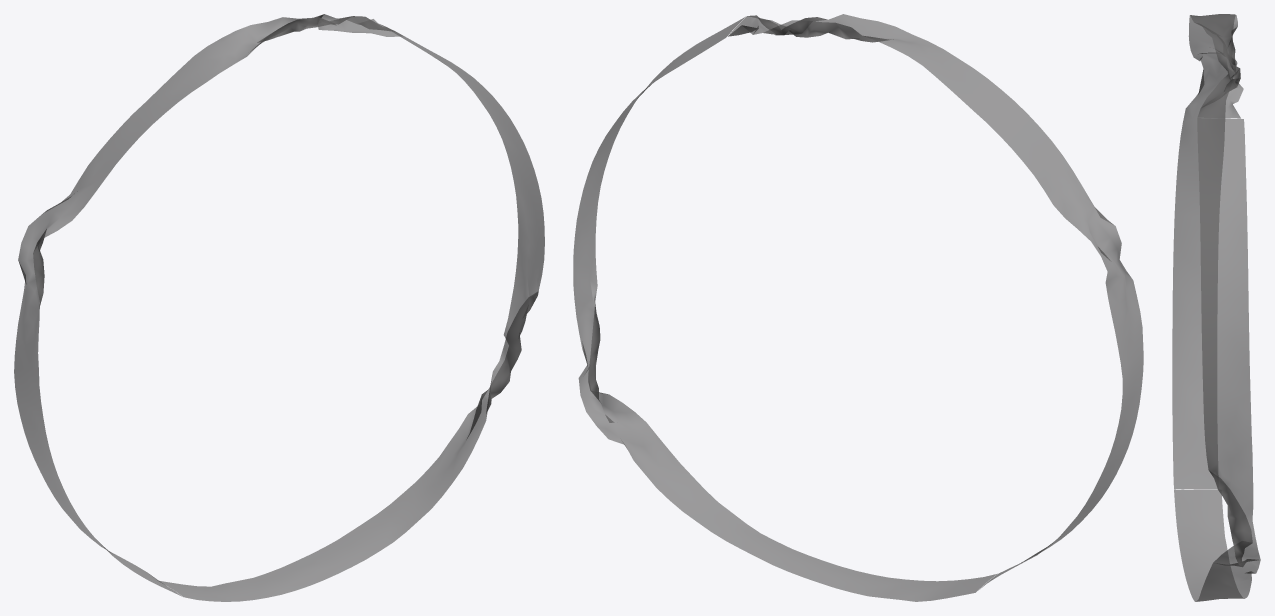
The picture shows the model from 3 angles, left to right: view 1: azimuth 30°, elevation 25°; view 2: azimuth 150°, elevation 25°; view 3: azimuth 270°, elevation 25°; orthographic projection. The views are drawn at different scales.
Visible parts, largest first — view 1: Garment; view 2: Garment; view 3: Garment.
Part boxes in pixels (left/top/right/bottom): Garment: left=14, top=14, right=544, bottom=601; Garment: left=573, top=14, right=1143, bottom=601; Garment: left=1172, top=14, right=1260, bottom=601.
Bounding box in the file's own units: 0.2826 × 0.2861 × 0.0425.
